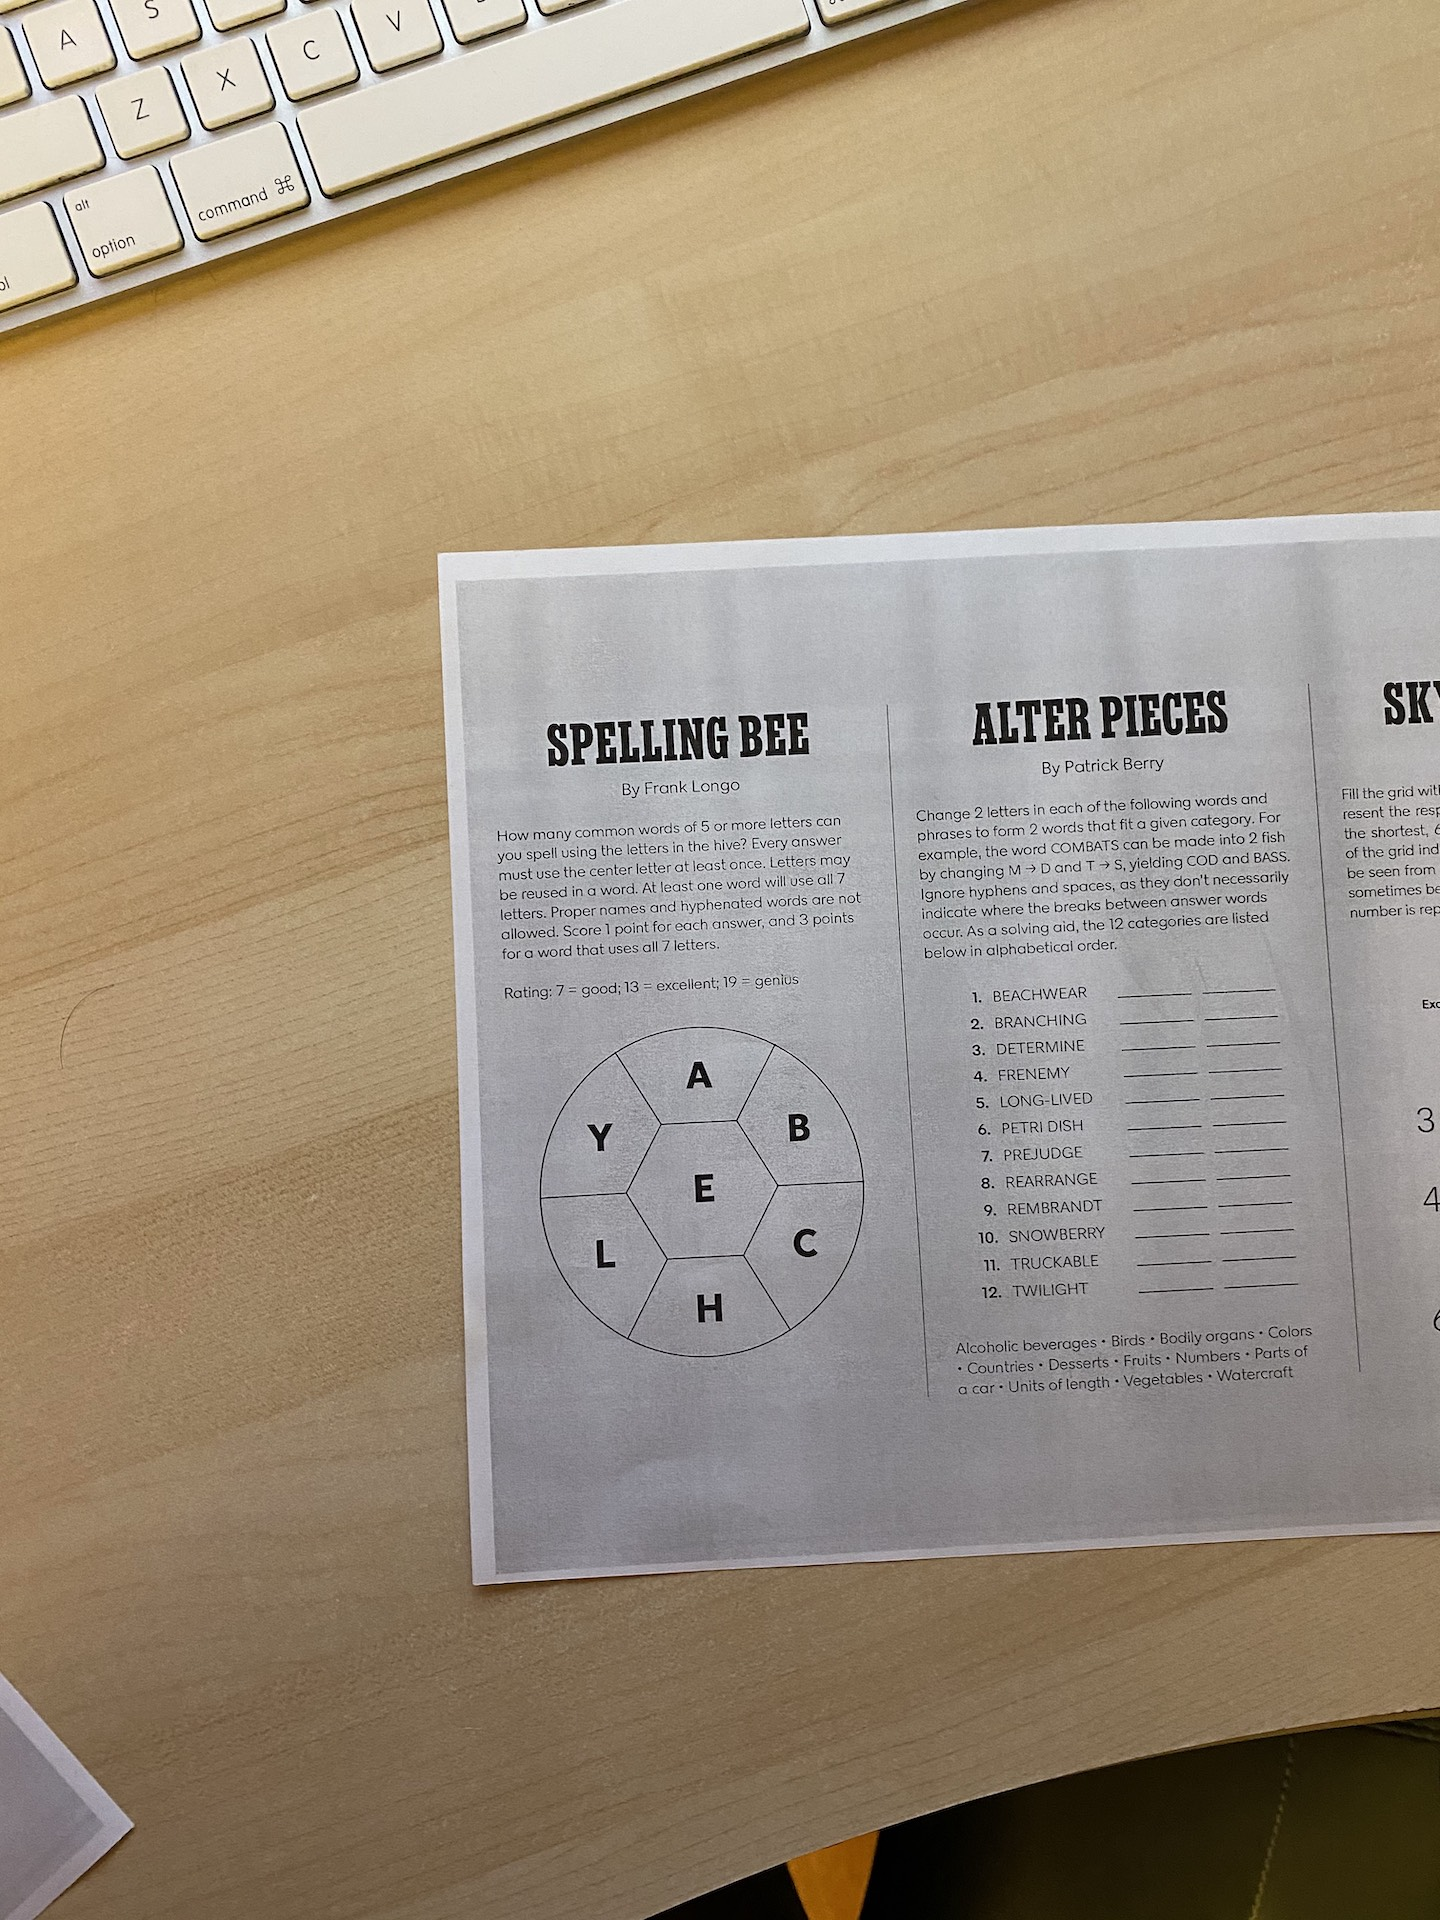Board: (523, 1014, 877, 1367)
